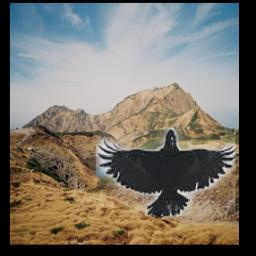Crow: (96, 128, 235, 216)
